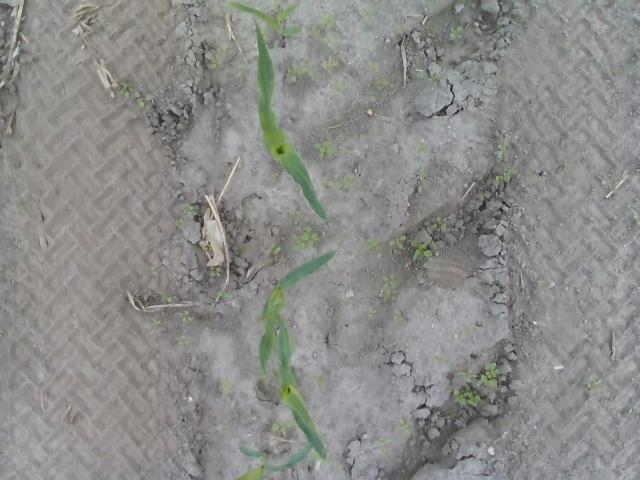Maize: (253, 19, 330, 221), (258, 251, 336, 375), (274, 334, 330, 464), (235, 441, 313, 480), (228, 0, 304, 38)
Weeds: (453, 362, 498, 410), (366, 234, 434, 261), (115, 80, 152, 108), (308, 12, 337, 46), (288, 224, 322, 252), (285, 59, 312, 84), (320, 174, 352, 190), (393, 416, 414, 437), (315, 140, 338, 159), (382, 274, 398, 301), (268, 420, 296, 434), (318, 54, 338, 72), (429, 214, 448, 232), (496, 166, 514, 185), (623, 206, 640, 226), (415, 159, 428, 184), (587, 372, 605, 388), (210, 46, 225, 65), (494, 142, 508, 161), (315, 368, 330, 385), (378, 436, 402, 446), (178, 310, 194, 324), (175, 334, 191, 348), (448, 26, 464, 40), (362, 5, 378, 19), (375, 78, 395, 89), (182, 203, 196, 218), (432, 352, 446, 367), (332, 80, 346, 94), (208, 267, 224, 278), (267, 244, 283, 255), (367, 306, 378, 322), (217, 290, 230, 303), (366, 60, 379, 73), (222, 381, 234, 394), (430, 73, 446, 82), (144, 266, 158, 276), (158, 289, 168, 303), (418, 144, 432, 154), (420, 0, 436, 8), (174, 219, 184, 231), (394, 311, 404, 323), (294, 209, 302, 222), (152, 318, 160, 330), (238, 64, 244, 76), (207, 297, 214, 306), (205, 244, 212, 252)
